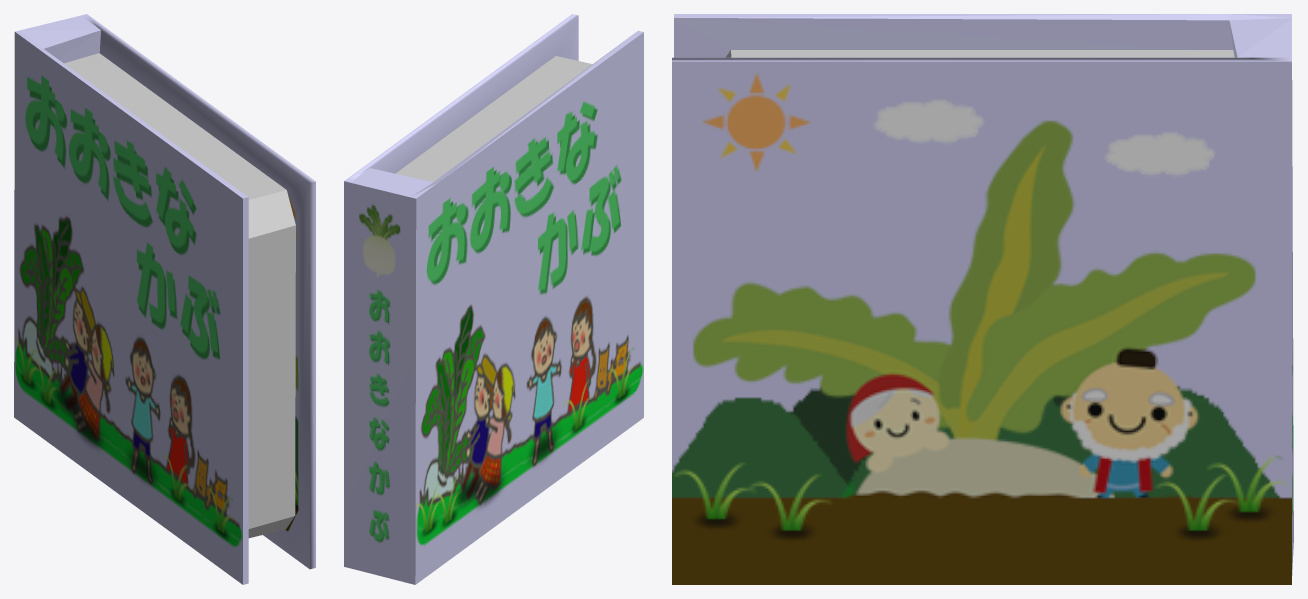
The model's file is BigTurnip.FBX.
3 renders of one model, left to right at view 1: azimuth 30°, elevation 25°; view 2: azimuth 150°, elevation 25°; view 3: azimuth 270°, elevation 25°, orthographic. The views are drawn at different scales.
Parts seen in each view (by area): view 1: Cover, Paper; view 2: Cover, Paper; view 3: Cover, Paper.
Boxes of the visible parts, <box> form: Cover: <box>14,14,315,584</box>; Paper: <box>64,53,295,538</box>; Cover: <box>344,14,643,584</box>; Paper: <box>395,56,592,182</box>; Cover: <box>672,14,1293,584</box>; Paper: <box>725,50,1234,57</box>.
Bounding box in the file's own units: 3.45 × 17.7 × 18.98.
Materials: 2 (1 with a texture image).
